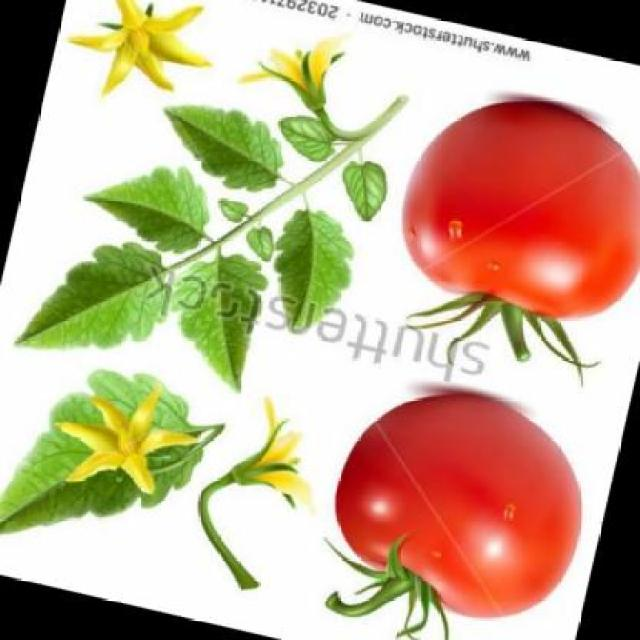Healthy Leaf: (132, 222, 303, 408), (2, 228, 180, 397), (23, 139, 245, 266), (249, 183, 377, 355), (126, 85, 294, 202)
